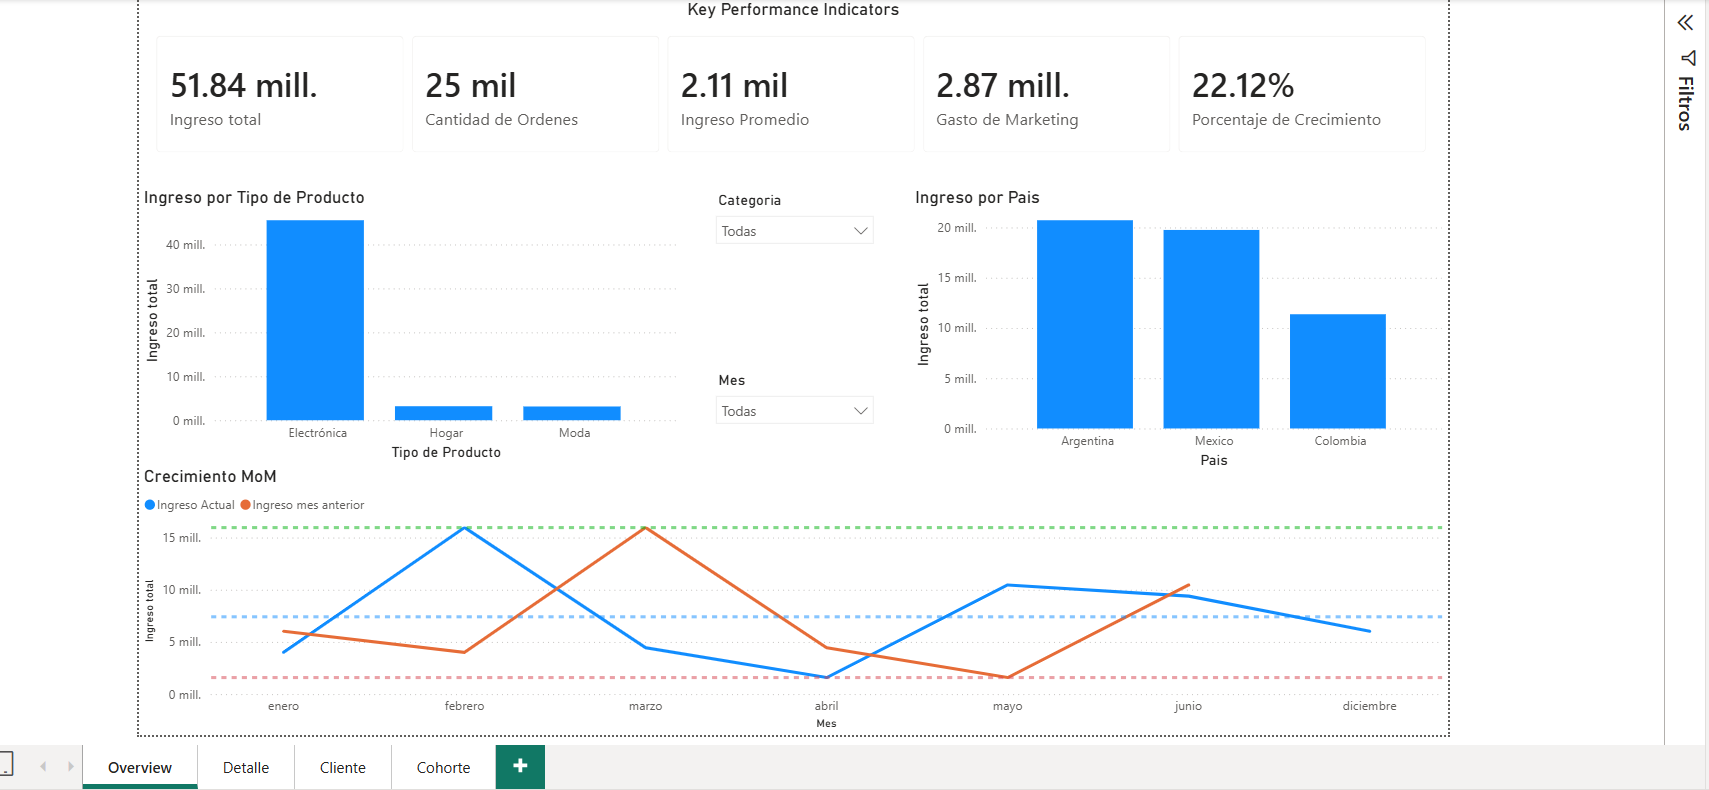

What the dashboard file says about the page in this screenshot:
{"tool":"powerbi","page":{"name":"Overview","canvas":[1280,720],"ordinal":0},"visuals":[{"type":"cardVisual","title":"Key Performance Indicators","fields":{"Data":["orders_clean.Ingreso total","orders_clean.Cantidad de Ordenes","Avg(orders_clean.monto_total)","orders_clean.Gasto Marketing","orders_clean.%_de_crecimiento"]},"box":[0,0,1280.3,167.5],"z":0},{"type":"clusteredColumnChart","title":"Ingreso por Pais","fields":{"Category":["orders_clean.pais"],"Y":["Sum(orders_clean.monto_total)"]},"box":[754.8,184,525.2,280.7],"z":1},{"type":"lineChart","title":"Crecimiento MoM","fields":{"Y":["orders_clean.Ingreso Actual","orders_clean.ingreso_mes_anterior"],"Category":["Dim_fecha.Date.Variación.Jerarquía de fechas.Mes"]},"box":[0,456.3,1280,263.9],"z":2},{"type":"clusteredColumnChart","title":"Ingreso por Tipo de Producto","fields":{"Category":["orders_clean.categoria_producto"],"Y":["Sum(orders_clean.monto_total)"]},"box":[0,184,531.9,272.7],"z":3},{"type":"slicer","fields":{"Values":["orders_clean.categoria_producto"]},"box":[553.4,184,174.6,84.6],"z":4},{"type":"slicer","fields":{"Values":["Dim_fecha.Date.Variación.Jerarquía de fechas.Mes"]},"box":[553.4,360,174.6,91.3],"z":5}]}

Visuals, with their boxes on the page's 1280x720 design canvas (x1, y1, x2, y2). These are canvas units, not pixel positions in the 1709x790 screenshot, which may show the page scaled, cropped or inside an application window:
"Key Performance Indicators" cardVisual: Rect(0, 0, 1280, 168)
"Ingreso por Pais" clusteredColumnChart: Rect(755, 184, 1280, 465)
"Crecimiento MoM" lineChart: Rect(0, 456, 1280, 720)
"Ingreso por Tipo de Producto" clusteredColumnChart: Rect(0, 184, 532, 457)
slicer - orders_clean.categoria_producto: Rect(553, 184, 728, 269)
slicer - Dim_fecha.Date.Variación.Jerarquía de fechas.Mes: Rect(553, 360, 728, 451)
